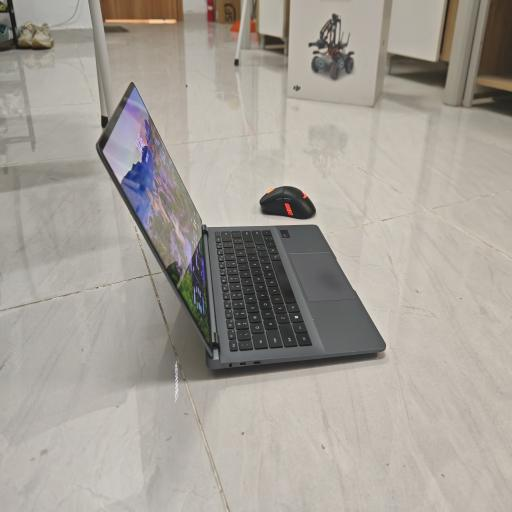laptop: (96, 83, 386, 369)
mouse: (260, 186, 316, 219)
